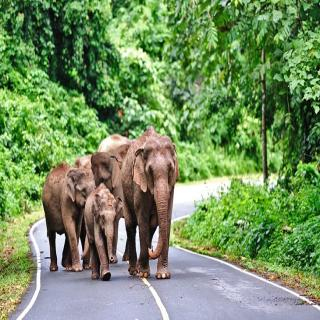Elephant: (120, 122, 184, 285), (84, 183, 125, 282)
